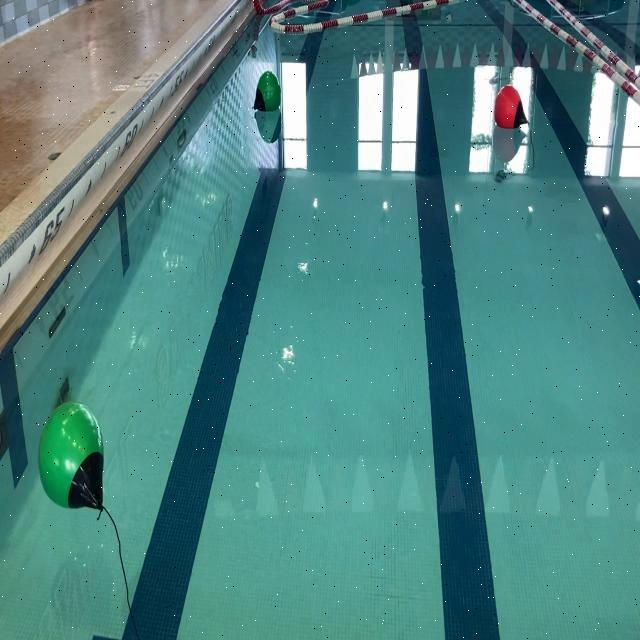buoy: (39, 396, 104, 512), (495, 84, 531, 131), (253, 71, 281, 114)
